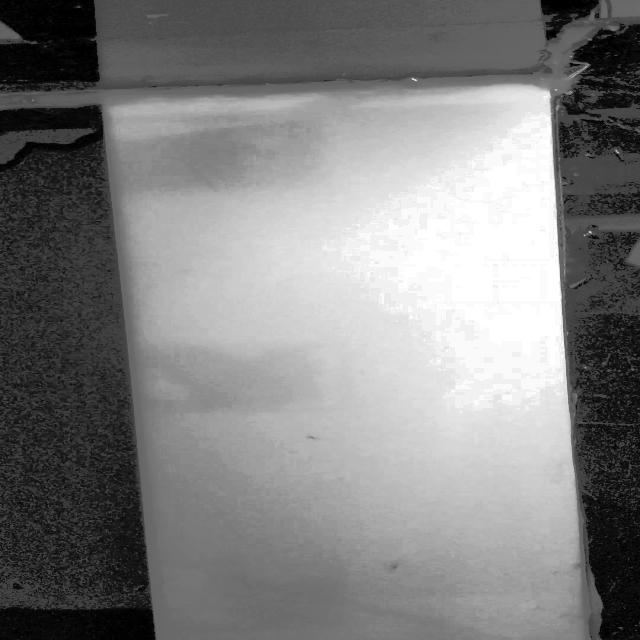shrimp: (378, 556, 421, 578), (303, 432, 350, 450)
